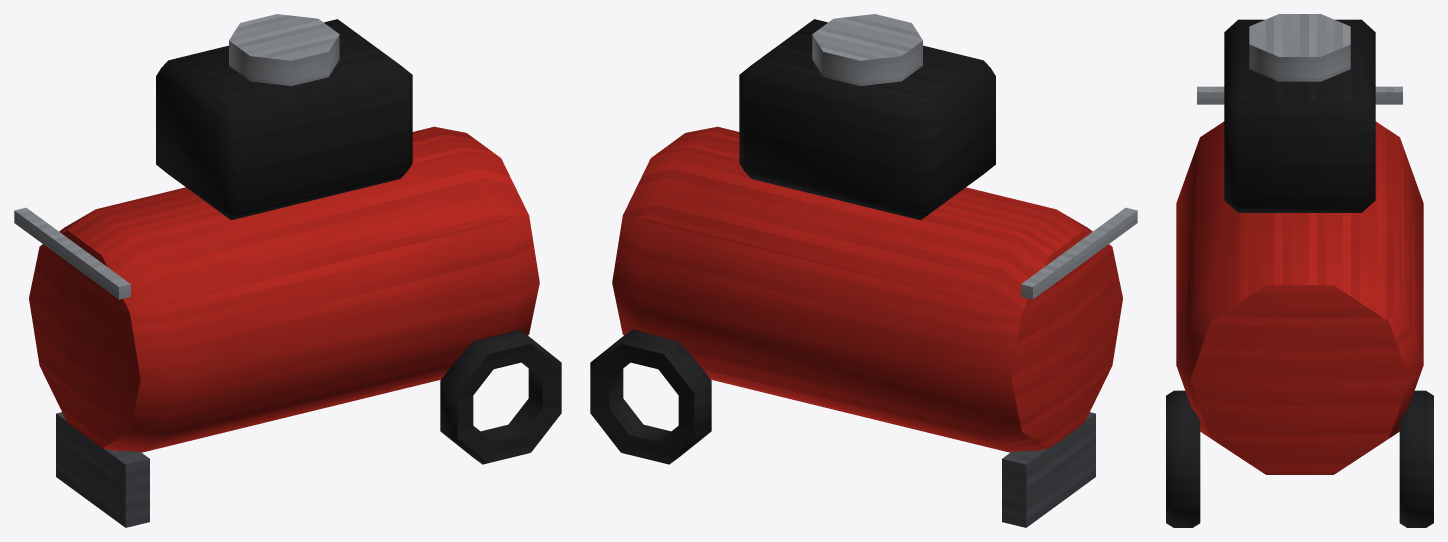
File: compressor.glb
The picture shows the model from 3 angles, left to right: view 1: azimuth 30°, elevation 25°; view 2: azimuth 150°, elevation 25°; view 3: azimuth 270°, elevation 25°; orthographic projection.
Parts seen in each view (by area): view 1: Inteiro; view 2: Inteiro; view 3: Inteiro.
Boxes of the visible parts, x1,y1,x2,y2 form: Inteiro: (14, 14, 561, 527); Inteiro: (590, 14, 1137, 527); Inteiro: (1166, 14, 1433, 527).
Bounding box in the file's own units: 0.7123 × 0.66 × 0.39.
Materials: 1 (1 with a texture image).
